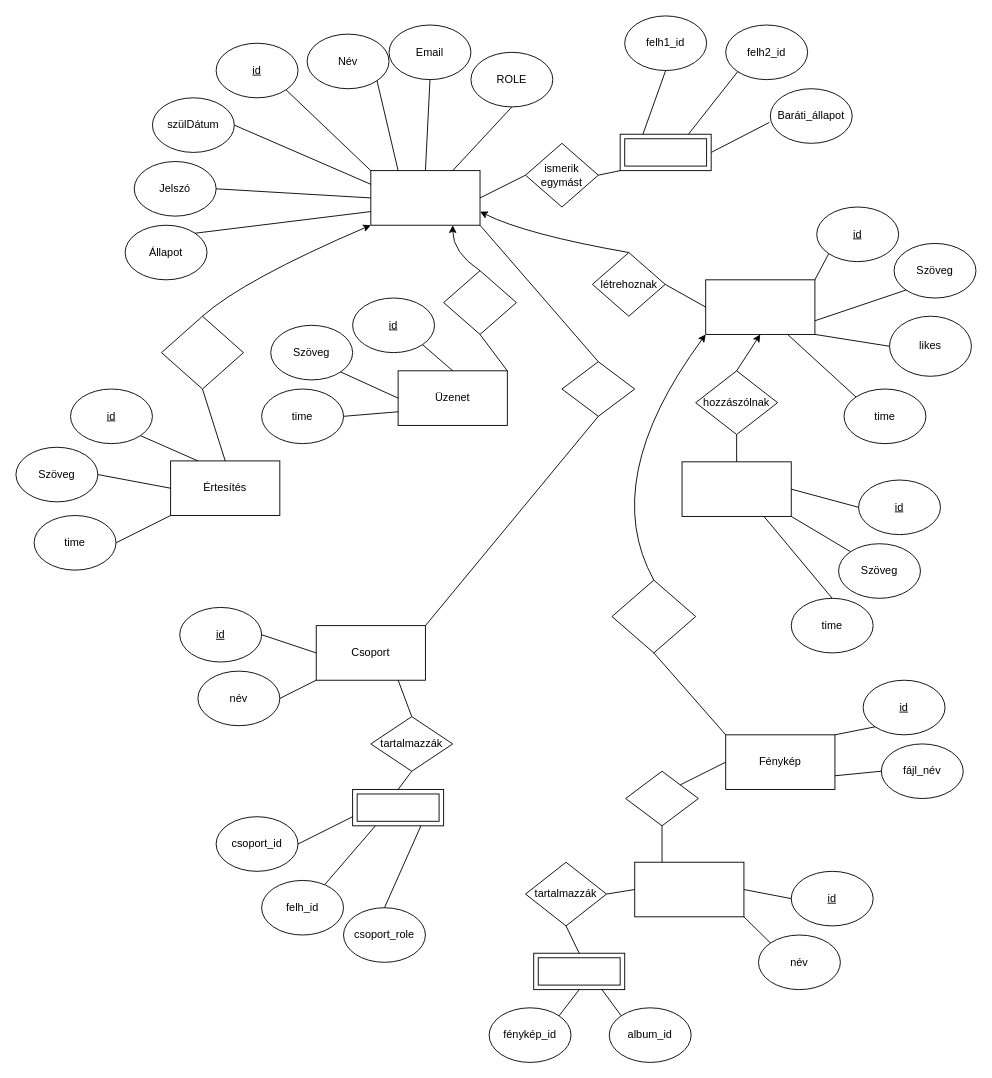
This 992x1078 diagram has some shape labels left out. Here are the shapes that lost their labels. From the top down, the centre of each, then its label:
the point at 665,152: Ismerős
the point at 425,197: Felhasználó
the point at 479,302: küldenek
the point at 760,306: Poszt
the point at 202,352: kapja
the point at 598,388: tagja
the point at 736,488: Komment
the point at 653,616: hozzácsatol
the point at 398,807: Tag
the point at 661,798: rendezhetők
the point at 689,889: Album
the point at 579,971: Albumkép
